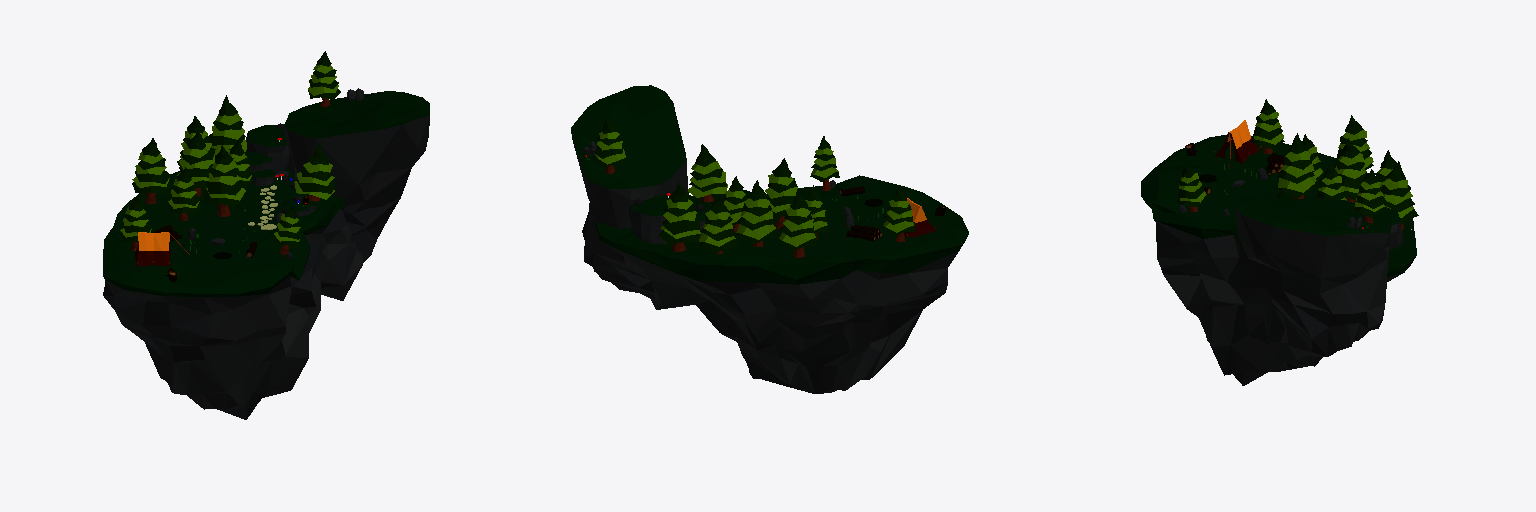
File: newIsland2.obj
3 renders of one model, left to right at view 1: azimuth 30°, elevation 25°; view 2: azimuth 150°, elevation 25°; view 3: azimuth 270°, elevation 25°, orthographic.
Bounding box in the file's own units: 42.3 × 33.52 × 29.28.